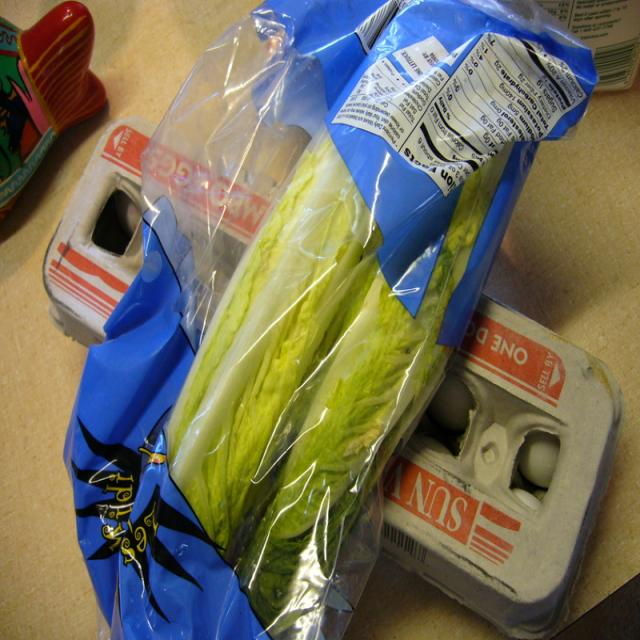packet - box: (383, 297, 623, 637), (384, 298, 621, 637), (44, 118, 155, 345), (537, 0, 639, 90)
